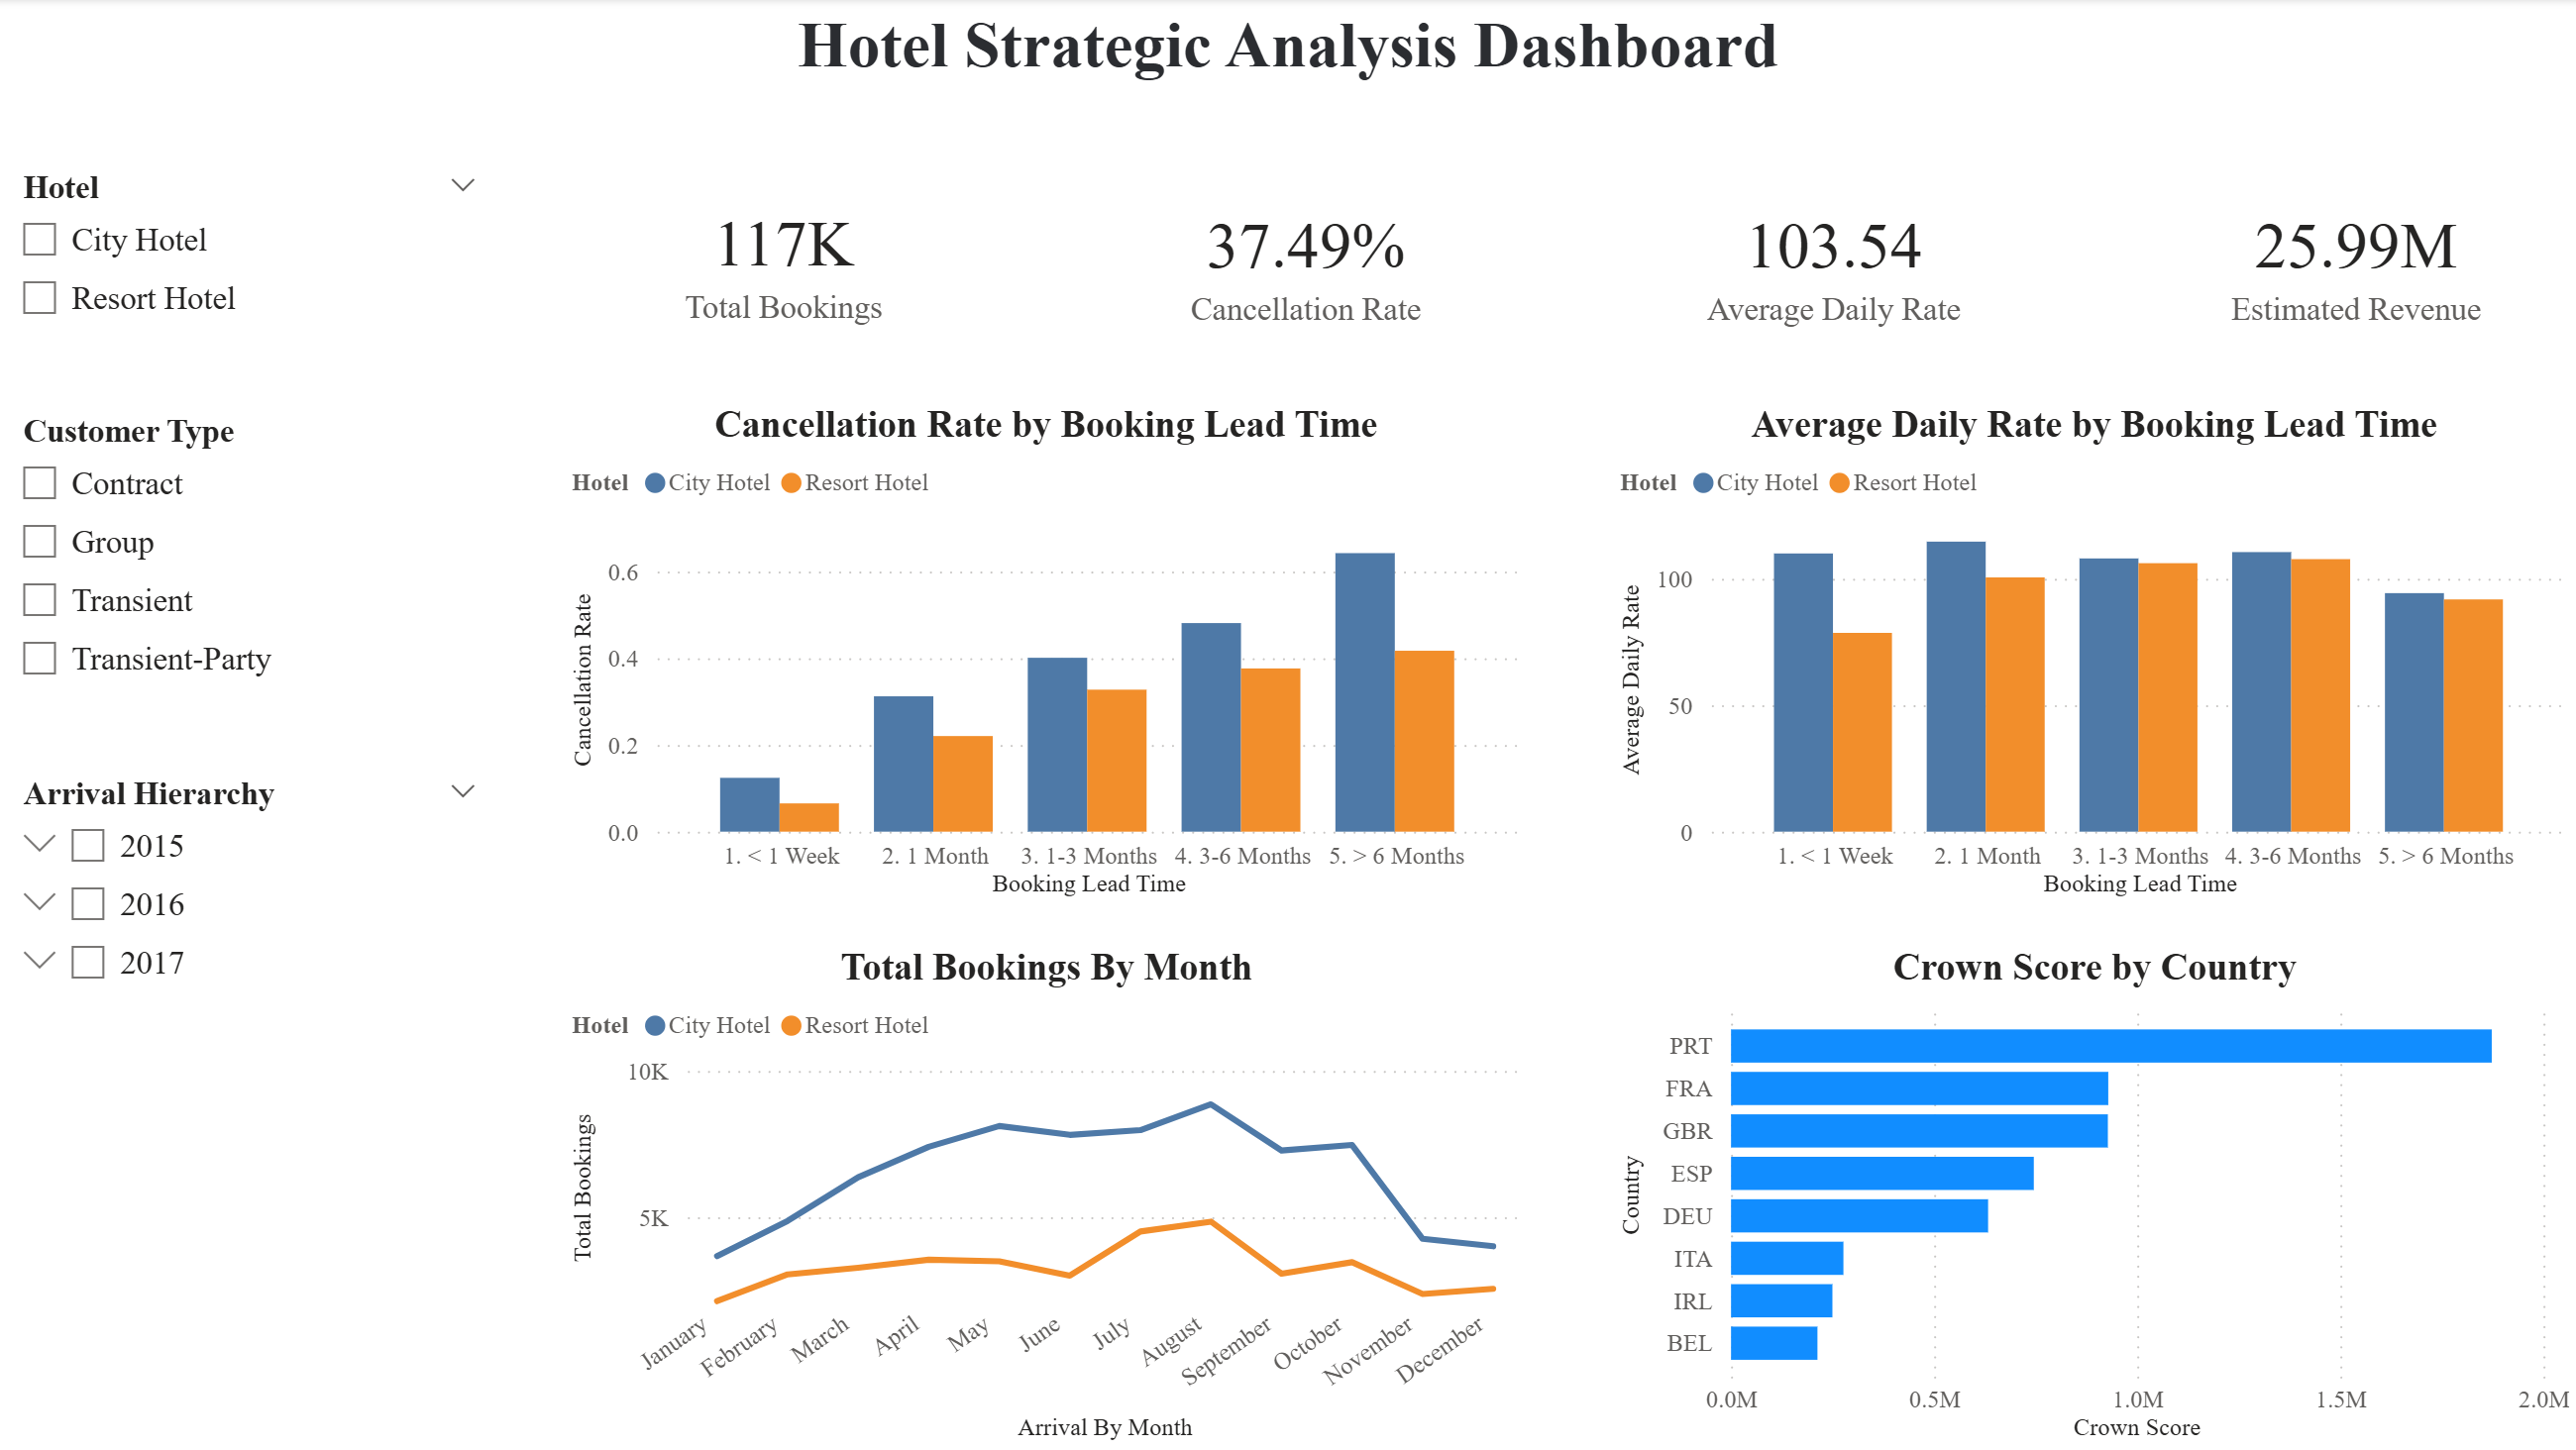

The page's visual inventory and layout, read from the dashboard file:
{"tool":"powerbi","page":{"name":"Page 1","canvas":[1280,720],"ordinal":0},"visuals":[{"type":"clusteredColumnChart","title":"Cancellation Rate by Booking Lead Time","fields":{"Y":["hotel_bookings_cleaned.Cancellation Rate"],"Series":["hotel_bookings_cleaned.hotel"],"Category":["hotel_bookings_cleaned.lead_time_group"]},"box":[280,200,480,250],"z":0},{"type":"slicer","fields":{"Values":["hotel_bookings_cleaned.hotel"]},"box":[0,80,250,100],"z":1000},{"type":"clusteredColumnChart","title":"Average Daily Rate by Booking Lead Time","fields":{"Category":["hotel_bookings_cleaned.Booking Lead Time"],"Y":["hotel_bookings_cleaned.Avg ADR"],"Series":["hotel_bookings_cleaned.hotel"]},"box":[800,200,480,250],"z":2000},{"type":"clusteredBarChart","fields":{"Category":["hotel_bookings_cleaned.country"],"Y":["hotel_bookings_cleaned.Crown Score"]},"box":[799.3,469.4,480.7,250.6],"z":3000},{"type":"slicer","fields":{"Values":["hotel_bookings_cleaned.customer_type"]},"box":[0,200,250,160],"z":4000},{"type":"slicer","fields":{"Values":["hotel_bookings_cleaned.arrival_date_year","hotel_bookings_cleaned.Arrival_Quarter","hotel_bookings_cleaned.arrival_date_month"]},"box":[0,380,250,140],"z":5000},{"type":"card","fields":{"Values":["hotel_bookings_cleaned.Average Daily Rate"]},"box":[800.4,80.5,219.9,99.8],"z":6000},{"type":"card","fields":{"Values":["hotel_bookings_cleaned.Cancellation Rate"]},"box":[538.5,80.5,221.1,99.8],"z":7000},{"type":"textbox","box":[0,0,1280,60],"z":8000},{"type":"card","fields":{"Values":["hotel_bookings_cleaned.Total Bookings"]},"box":[280,80,220,100],"z":9000},{"type":"card","fields":{"Values":["hotel_bookings_cleaned.Estimated Revenue"]},"box":[1058.9,80.5,221.1,99.8],"z":10000},{"type":"lineChart","title":"Total Bookings By Month","fields":{"Category":["hotel_bookings_cleaned.Arrival By Month"],"Y":["hotel_bookings_cleaned.Total Bookings"],"Series":["hotel_bookings_cleaned.Hotel"]},"box":[280,470,480.7,250.6],"z":10001}]}

Visuals, with their boxes in screenshot pixels (x1, y1, x2, y2), scaled from the page's 1280x720 canvas onto the 2576x1450 screenshot:
"Cancellation Rate by Booking Lead Time" clusteredColumnChart: l=564, t=403, r=1530, b=906
slicer - hotel_bookings_cleaned.hotel: l=0, t=161, r=503, b=362
"Average Daily Rate by Booking Lead Time" clusteredColumnChart: l=1610, t=403, r=2575, b=906
clusteredBarChart - hotel_bookings_cleaned.country x hotel_bookings_cleaned.Crown Score: l=1609, t=945, r=2575, b=1449
slicer - hotel_bookings_cleaned.customer_type: l=0, t=403, r=503, b=725
slicer - hotel_bookings_cleaned.arrival_date_year x hotel_bookings_cleaned.Arrival_Quarter: l=0, t=766, r=503, b=1047
card - hotel_bookings_cleaned.Average Daily Rate: l=1611, t=162, r=2053, b=363
card - hotel_bookings_cleaned.Cancellation Rate: l=1084, t=162, r=1529, b=363
textbox: l=0, t=0, r=2575, b=121
card - hotel_bookings_cleaned.Total Bookings: l=564, t=161, r=1007, b=362
card - hotel_bookings_cleaned.Estimated Revenue: l=2131, t=162, r=2575, b=363
"Total Bookings By Month" lineChart: l=564, t=947, r=1531, b=1449
